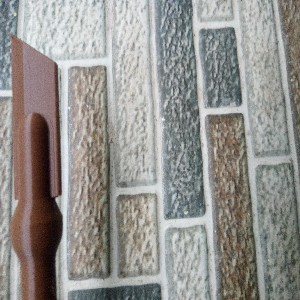cutter: (9, 32, 64, 300)
